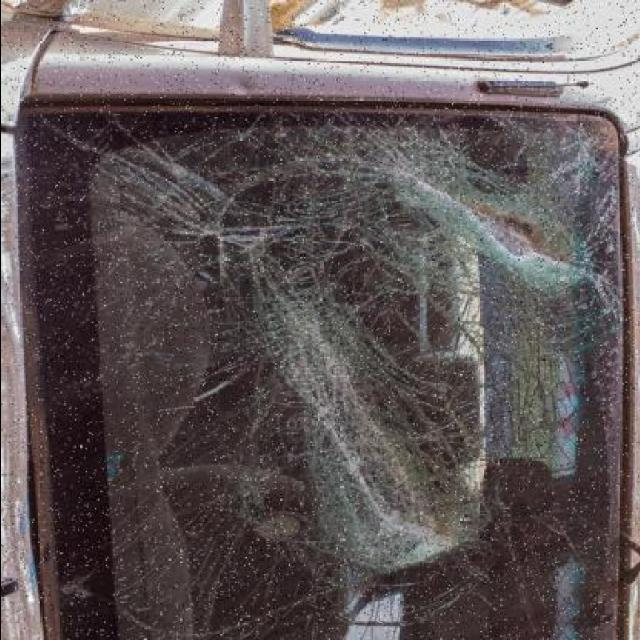Front-Windscreen-Damage: (1, 89, 620, 640)
